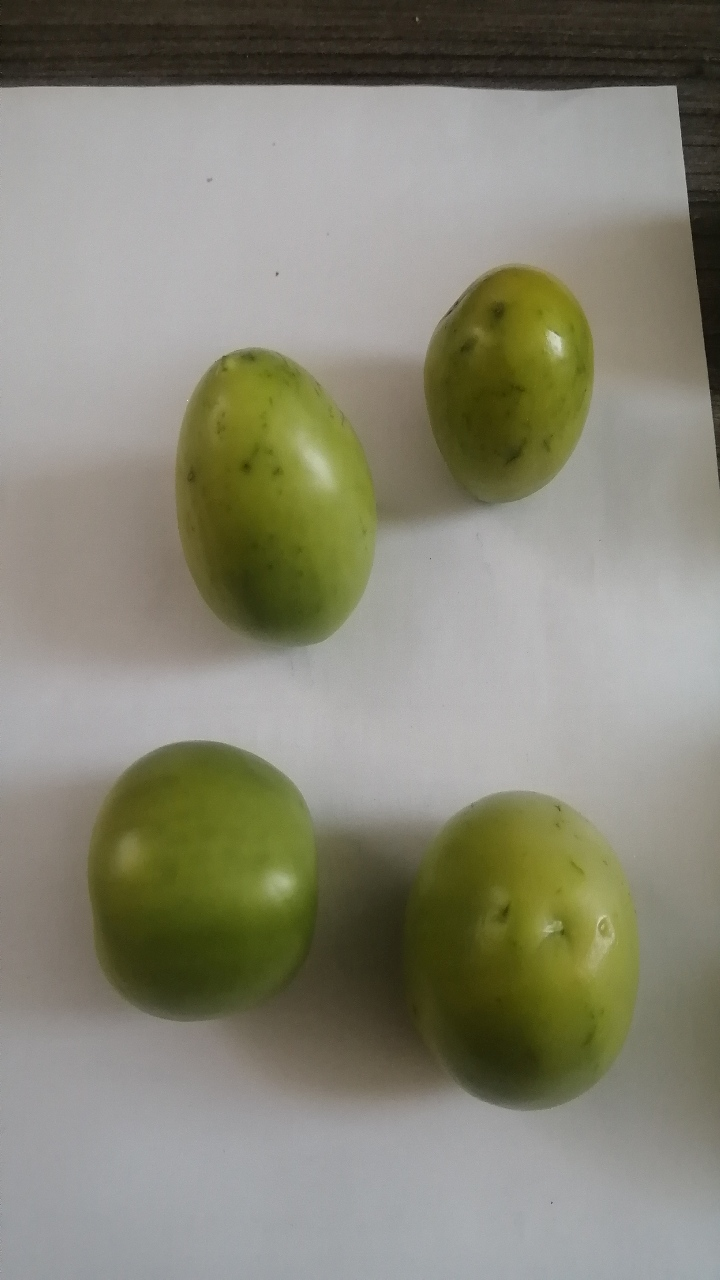tomateVerde: (378, 771, 660, 1128), (80, 717, 323, 1043), (146, 328, 388, 652), (395, 239, 621, 523)
